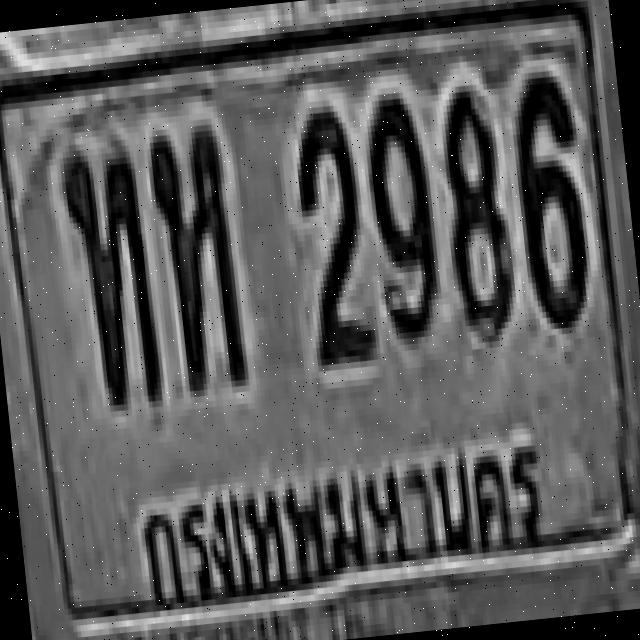2: (287, 101, 374, 363)
32ThorThaHan: (58, 138, 168, 418)
50HorHeep: (144, 120, 252, 396)
6: (506, 66, 589, 328)
8: (432, 80, 514, 336)
9: (359, 88, 442, 338)
